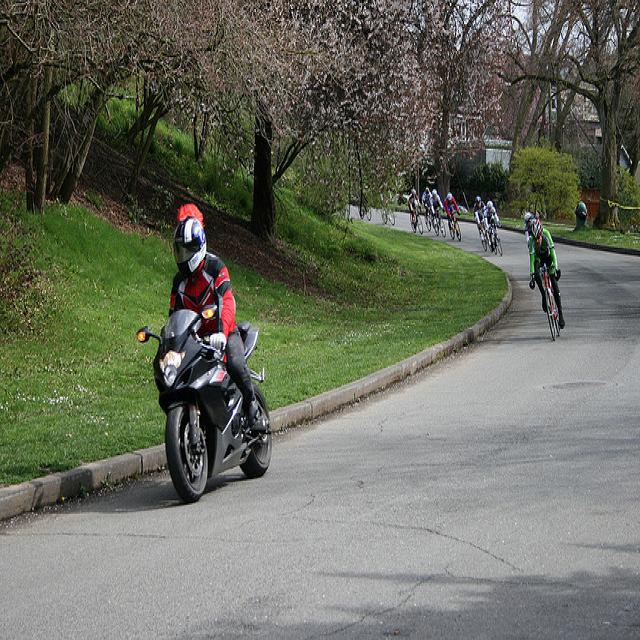motor: (136, 302, 275, 505)
